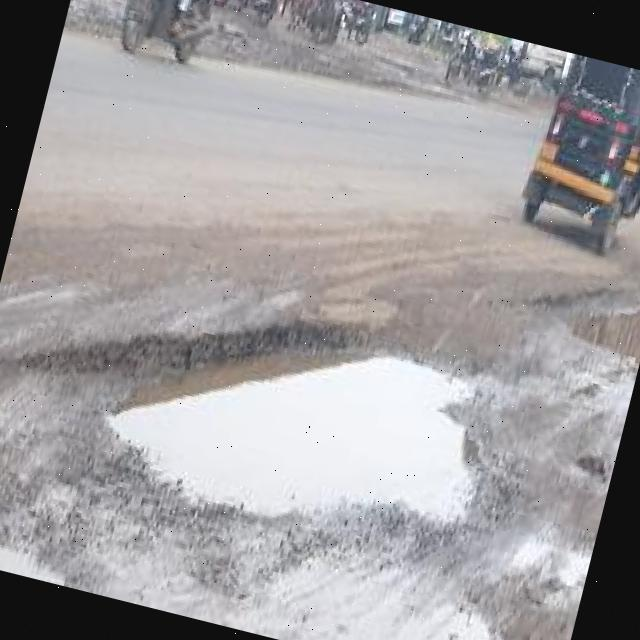stagnation: (78, 305, 482, 545)
